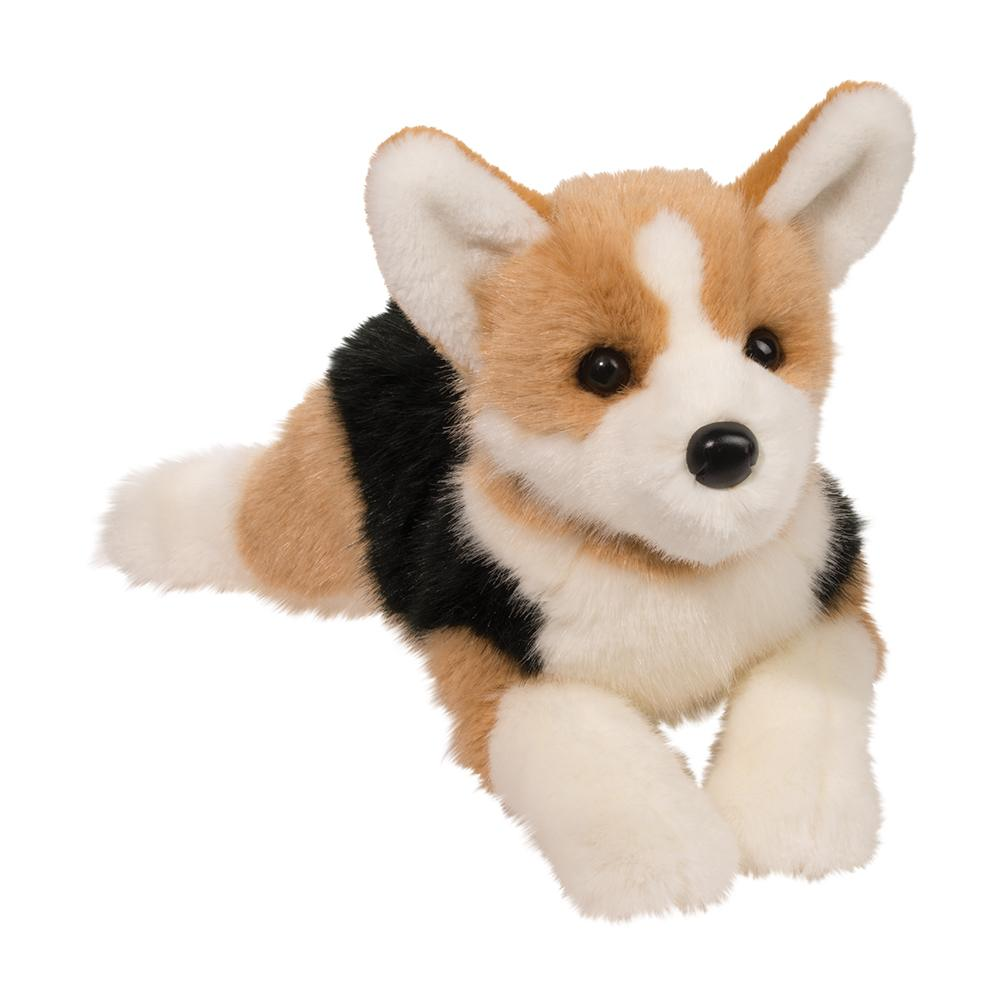corgi: (354, 72, 924, 884)
